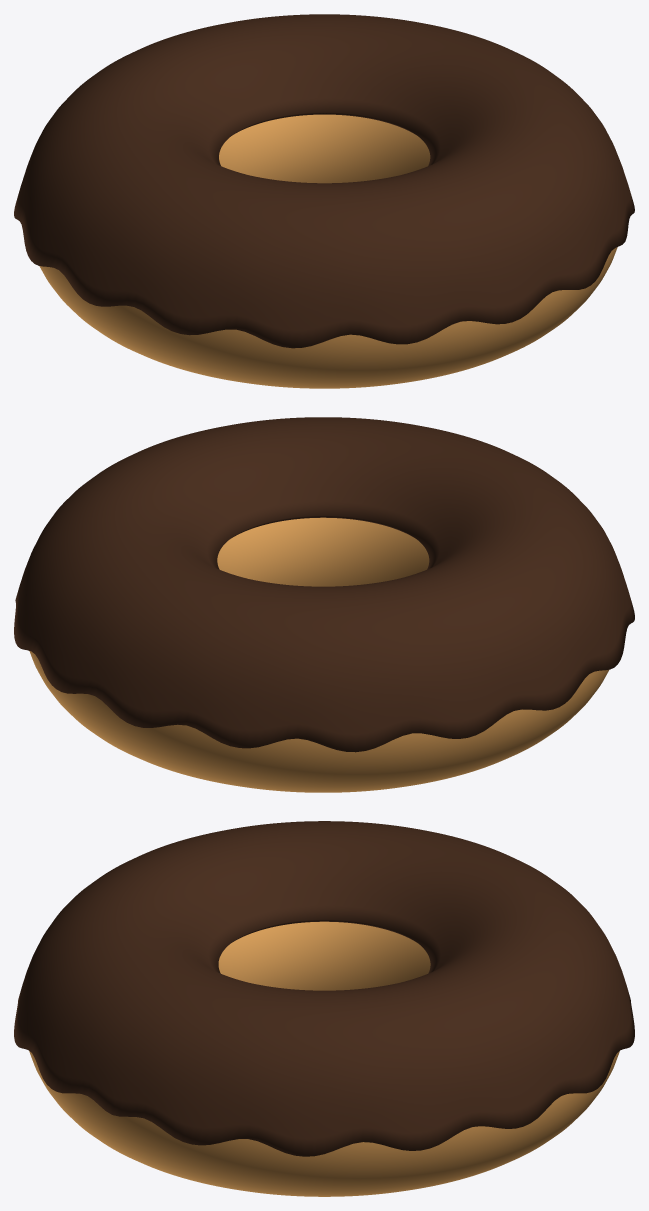
Rendered from ChocolateDonut.fbx.
3 renders of one model, top to bottom at view 1: azimuth 30°, elevation 25°; view 2: azimuth 150°, elevation 25°; view 3: azimuth 270°, elevation 25°, orthographic.
Parts seen in each view (by area): view 1: ChocolateDonut-Glaze, ChocolateDonut; view 2: ChocolateDonut-Glaze, ChocolateDonut; view 3: ChocolateDonut-Glaze, ChocolateDonut.
Boxes of the visible parts, x1=… form: ChocolateDonut-Glaze: x1=14, y1=14, x2=634, y2=348; ChocolateDonut: x1=39, y1=114, x2=617, y2=388; ChocolateDonut-Glaze: x1=14, y1=417, x2=634, y2=752; ChocolateDonut: x1=29, y1=517, x2=608, y2=792; ChocolateDonut-Glaze: x1=14, y1=821, x2=634, y2=1156; ChocolateDonut: x1=29, y1=921, x2=619, y2=1196.
Size of the model in its own units: 96.09 by 32.11 by 96.19.
